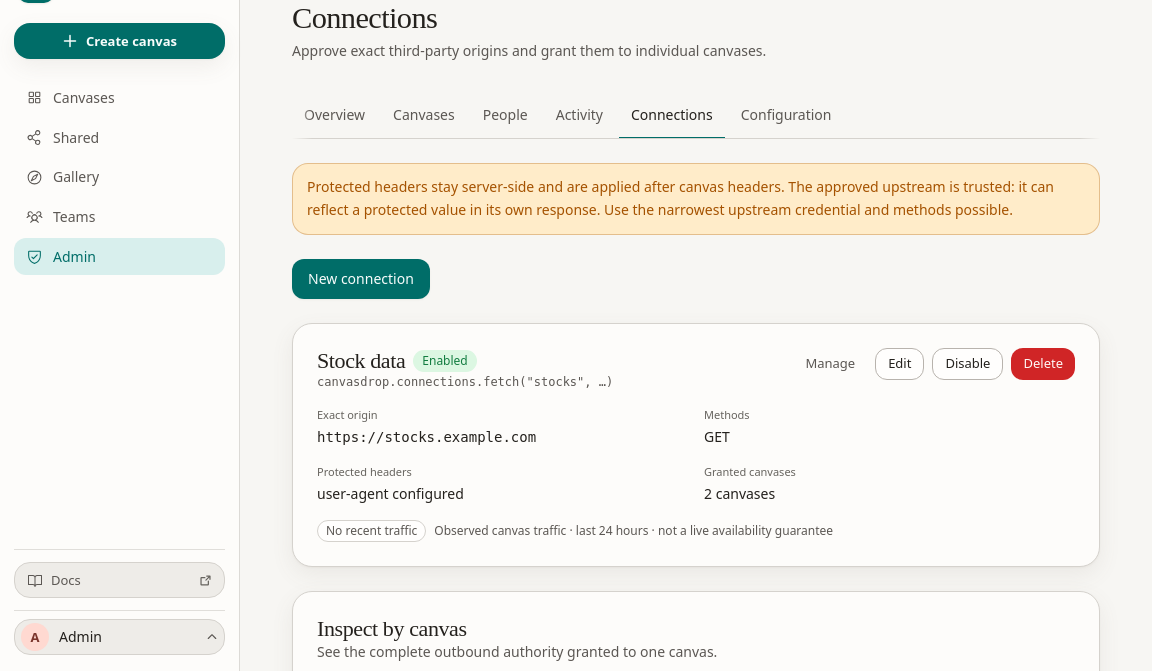
Test: admin connections › requires explicit endpoint, method and cap before enabling a public grant, and can revoke it
Click the button "Manage".
click(830, 364)  # box x1=793 y1=348 x2=867 y2=380
(page scrolled)
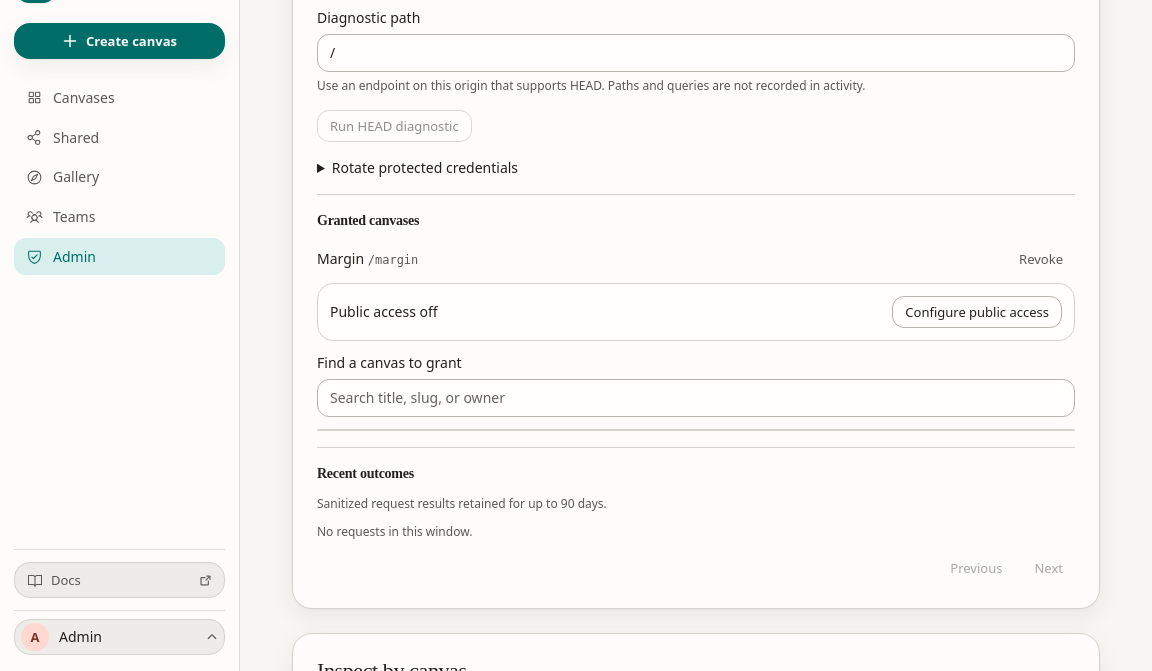
Expected: the text "Public access off" is shown, x1=330 y1=302 x2=438 y2=322
Click the button "Configure public access".
click(977, 312)  # box x1=892 y1=296 x2=1062 y2=328
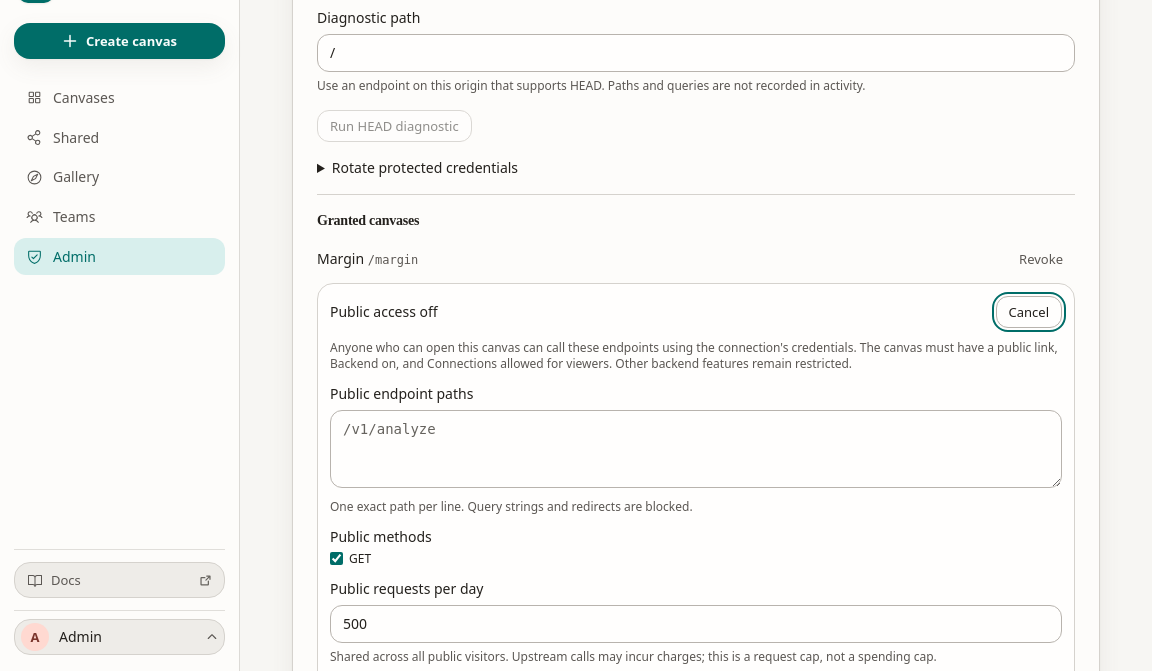
Type "/quote" into the text box labelled "Public endpoint paths".
click(696, 449); type("/quote")  # box x1=330 y1=410 x2=1062 y2=488
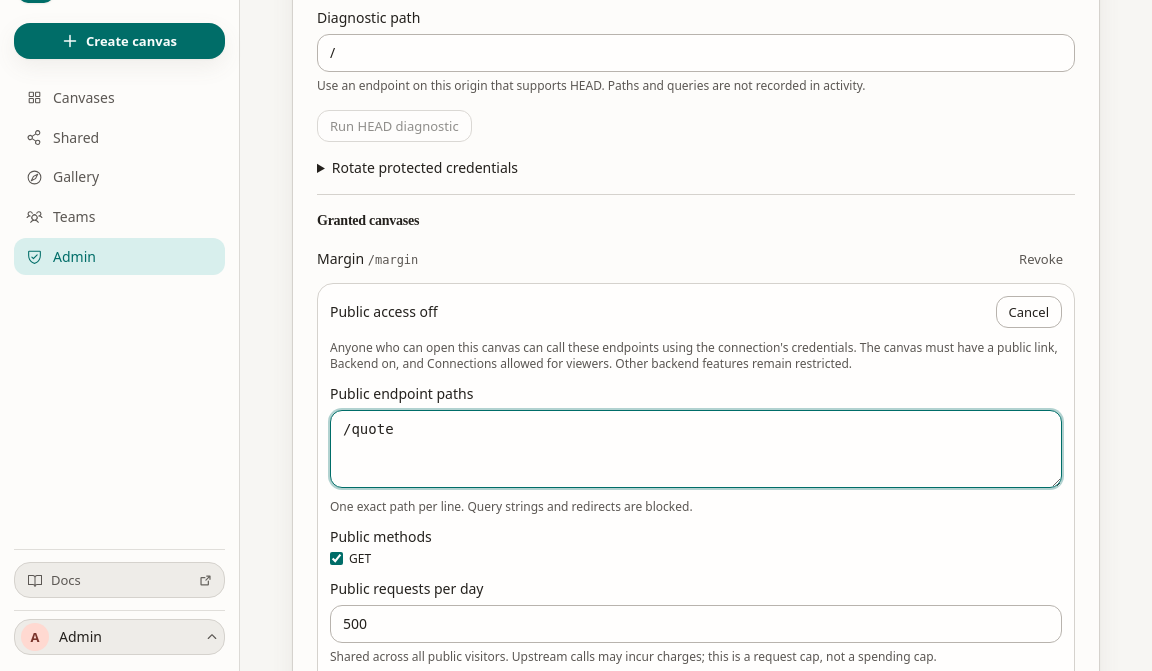
Replace the text in the number field labelled "Public requests per day" with "2000" at (696,624), box x1=330 y1=605 x2=1062 y2=643
(page scrolled)
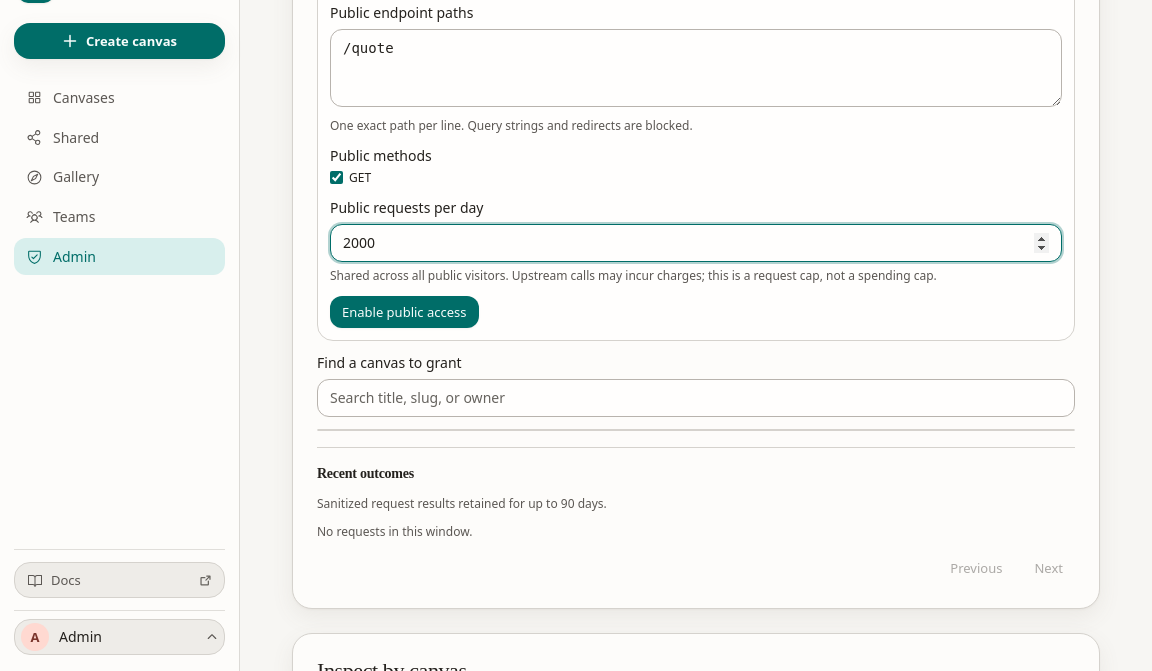
Click the button "Enable public access".
click(404, 312)  # box x1=330 y1=296 x2=478 y2=328
(page scrolled)
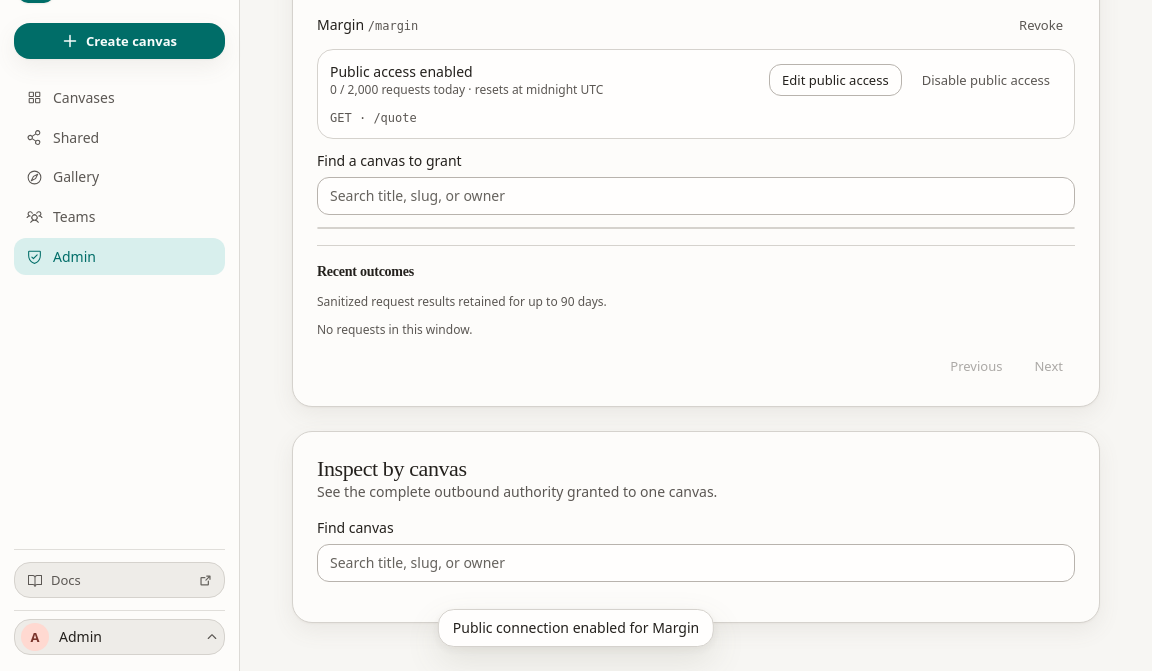
Expected: the text "Public access enabled" is shown, x1=330 y1=62 x2=473 y2=81
Click the button "Disable public access".
click(986, 80)  # box x1=910 y1=64 x2=1062 y2=96
(page scrolled)
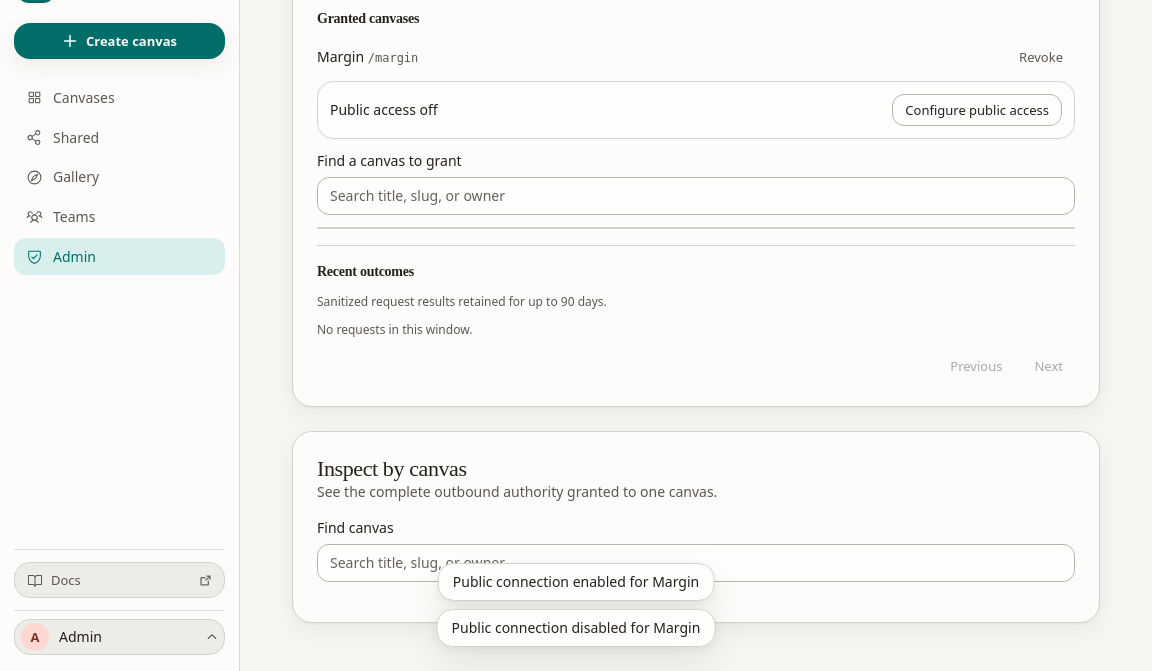
Expected: the text "Public access off" is shown, x1=330 y1=100 x2=438 y2=120
